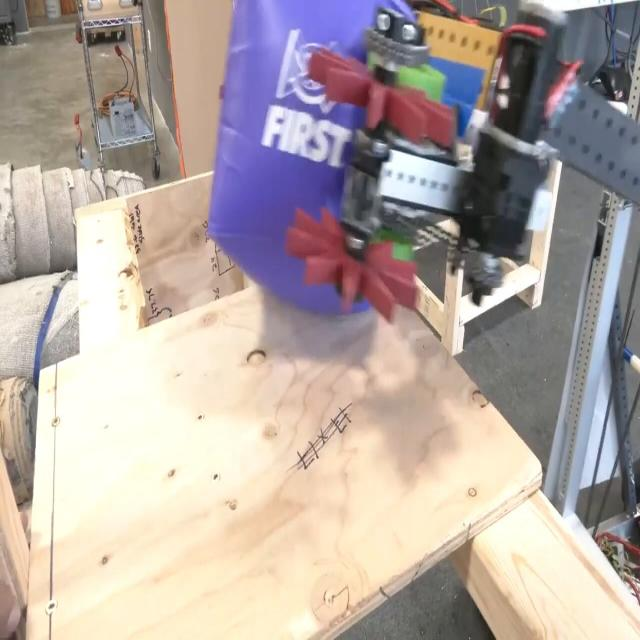frc_cube: (228, 0, 394, 316)
